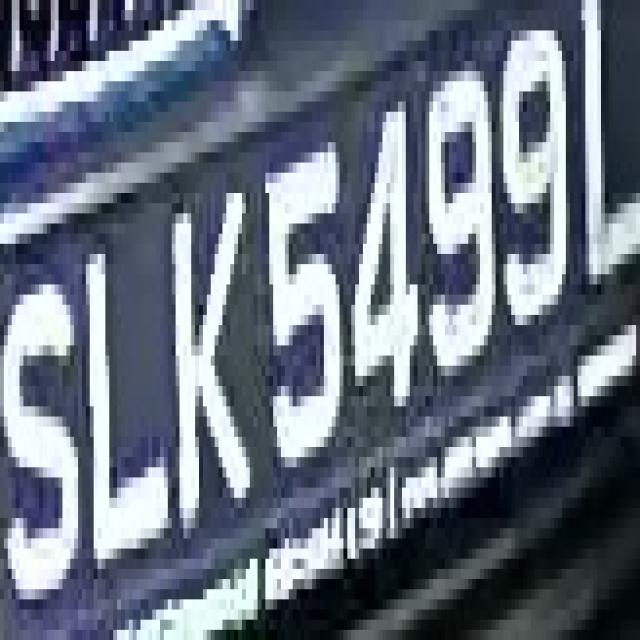4: (339, 71, 422, 427)
5: (258, 142, 348, 488)
9: (418, 61, 503, 416), (492, 0, 574, 356)
K: (156, 183, 262, 518)
L: (74, 224, 180, 558), (570, 20, 636, 305)
S: (8, 244, 82, 599)
